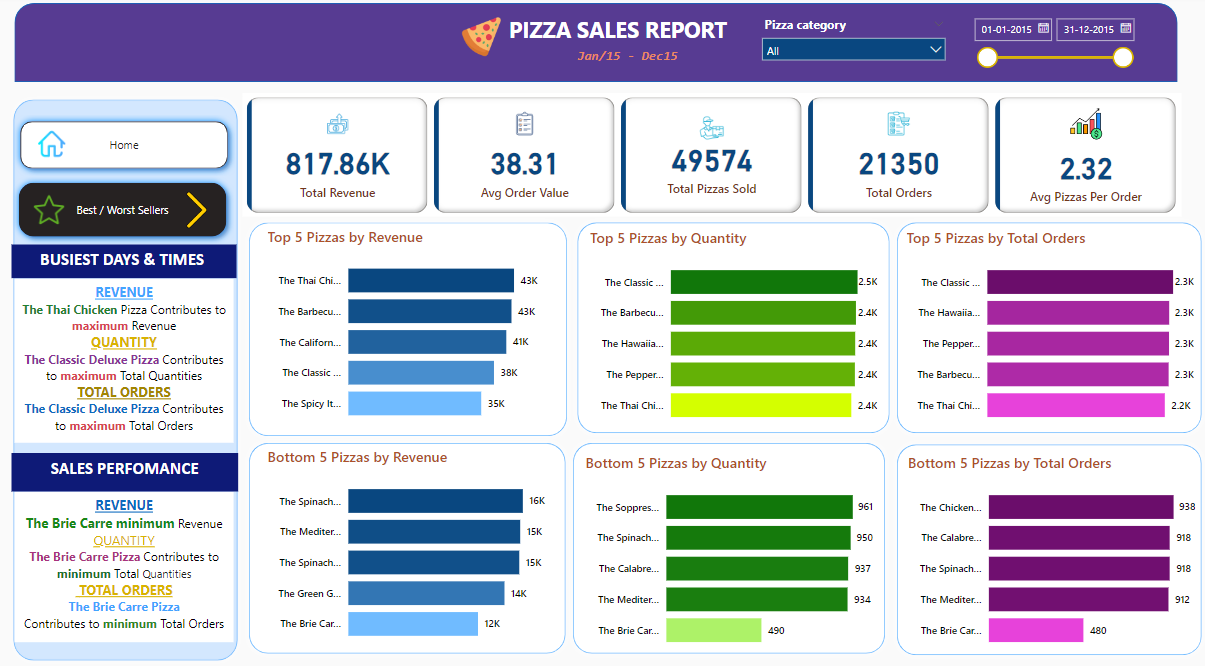

The dashboard page shown, as its layout file describes it:
{"tool":"powerbi","page":{"name":"Best / Worst Sellers","canvas":[1500,820],"ordinal":1},"visuals":[{"type":"cardVisual","fields":{"Data":["pizza_sales.Total Revenue","pizza_sales.Avg Order Value","pizza_sales.Total Pizzas Sold","pizza_sales.Total Orders","pizza_sales.Avg Pizzas Per Order"]},"box":[311.6,113.6,1154.8,152.1],"z":0},{"type":"shape","box":[31.2,3.7,1429.7,97.1],"z":1000},{"type":"textbox","box":[579.2,12.8,388.6,62.3],"z":2000},{"type":"textbox","box":[201.6,53.2,1167.6,60.5],"z":3000},{"type":"image","box":[548.1,14.7,115.5,60.5],"z":4000},{"type":"shape","box":[311.6,265.8,406.9,278.6],"z":5000},{"type":"shape","box":[22,113.6,291.4,705.7],"z":15000},{"type":"textbox","box":[28.3,301.4,276.9,41.4],"z":16000},{"type":"textbox","box":[32,342.8,269.4,201.5],"z":17000},{"type":"textbox","box":[28.3,557.6,278.8,47.1],"z":18000},{"type":"textbox","box":[32,604.6,269.4,184.6],"z":19000},{"type":"slicer","fields":{"Values":["pizza_sales.pizza_category"]},"box":[940.3,14.7,245.6,88],"z":20000},{"type":"slicer","fields":{"Values":["pizza_sales.order_date"]},"box":[1198.8,12.8,216.3,78.8],"z":21000},{"type":"shape","box":[714.9,265.8,399.6,274.9],"z":21001},{"type":"shape","box":[1109,265.8,390.4,274.9],"z":21002},{"type":"shape","box":[311.6,537.1,405.1,274.9],"z":21003},{"type":"shape","box":[709.4,537.1,399.6,274.9],"z":21004},{"type":"shape","box":[1109,538.9,390.4,274.9],"z":21005},{"type":"barChart","title":"Top 5 Pizzas by Revenue ","fields":{"Category":["pizza_sales.pizza_name"],"Y":["pizza_sales.Total Revenue"]},"box":[337.3,278.6,362.9,253],"z":21006},{"type":"barChart","title":"Bottom 5 Pizzas by Revenue ","fields":{"Category":["pizza_sales.pizza_name"],"Y":["pizza_sales.Total Revenue"]},"box":[337.3,549.9,362.9,253],"z":21007},{"type":"barChart","title":"Top 5 Pizzas  by Quantity","fields":{"Category":["pizza_sales.pizza_name"],"Y":["pizza_sales.Total Pizzas Sold"]},"box":[734.8,280.7,362.8,253.3],"z":21008},{"type":"barChart","title":"Bottom 5 Pizzas  by Quantity","fields":{"Category":["pizza_sales.pizza_name"],"Y":["pizza_sales.Total Pizzas Sold"]},"box":[727.9,556.8,362.8,253.3],"z":21009},{"type":"barChart","title":"Top 5 Pizzas  by Total Orders","fields":{"Category":["pizza_sales.pizza_name"],"Y":["pizza_sales.Total Orders"]},"box":[1122.7,280.7,362.8,253.3],"z":21010},{"type":"barChart","title":"Bottom 5 Pizzas  by Total Orders","fields":{"Category":["pizza_sales.pizza_name"],"Y":["pizza_sales.Total Orders"]},"box":[1125,556.8,362.8,253.3],"z":21011},{"type":"pageNavigator","box":[27.5,216.3,273.1,84.3],"z":21012},{"type":"pageNavigator","box":[29.3,139.3,273.1,77],"z":21013},{"type":"image","box":[49.5,155.8,55,44],"z":21014},{"type":"image","box":[49.5,231,47.7,55],"z":21015},{"type":"image","box":[223.6,231,64.2,55],"z":21016}]}

Visuals, with their boxes in screenshot pixels (x1, y1, x2, y2), scaled from the page's 1500x820 canvas onto the 1205x666 screenshot:
cardVisual - pizza_sales.Total Revenue x pizza_sales.Avg Order Value: 250,92,1178,216
shape: 25,3,1174,82
textbox: 465,10,777,61
textbox: 162,43,1100,92
image: 440,12,533,61
shape: 250,216,577,442
shape: 18,92,252,665
textbox: 23,245,245,278
textbox: 26,278,242,442
textbox: 23,453,247,491
textbox: 26,491,242,641
slicer - pizza_sales.pizza_category: 755,12,953,83
slicer - pizza_sales.order_date: 963,10,1137,74
shape: 574,216,895,439
shape: 891,216,1204,439
shape: 250,436,576,660
shape: 570,436,891,660
shape: 891,438,1204,661
"Top 5 Pizzas by Revenue " barChart: 271,226,562,432
"Bottom 5 Pizzas by Revenue " barChart: 271,447,562,652
"Top 5 Pizzas  by Quantity" barChart: 590,228,882,434
"Bottom 5 Pizzas  by Quantity" barChart: 585,452,876,658
"Top 5 Pizzas  by Total Orders" barChart: 902,228,1193,434
"Bottom 5 Pizzas  by Total Orders" barChart: 904,452,1195,658
pageNavigator: 22,176,241,244
pageNavigator: 24,113,243,176
image: 40,127,84,162
image: 40,188,78,232
image: 180,188,231,232
